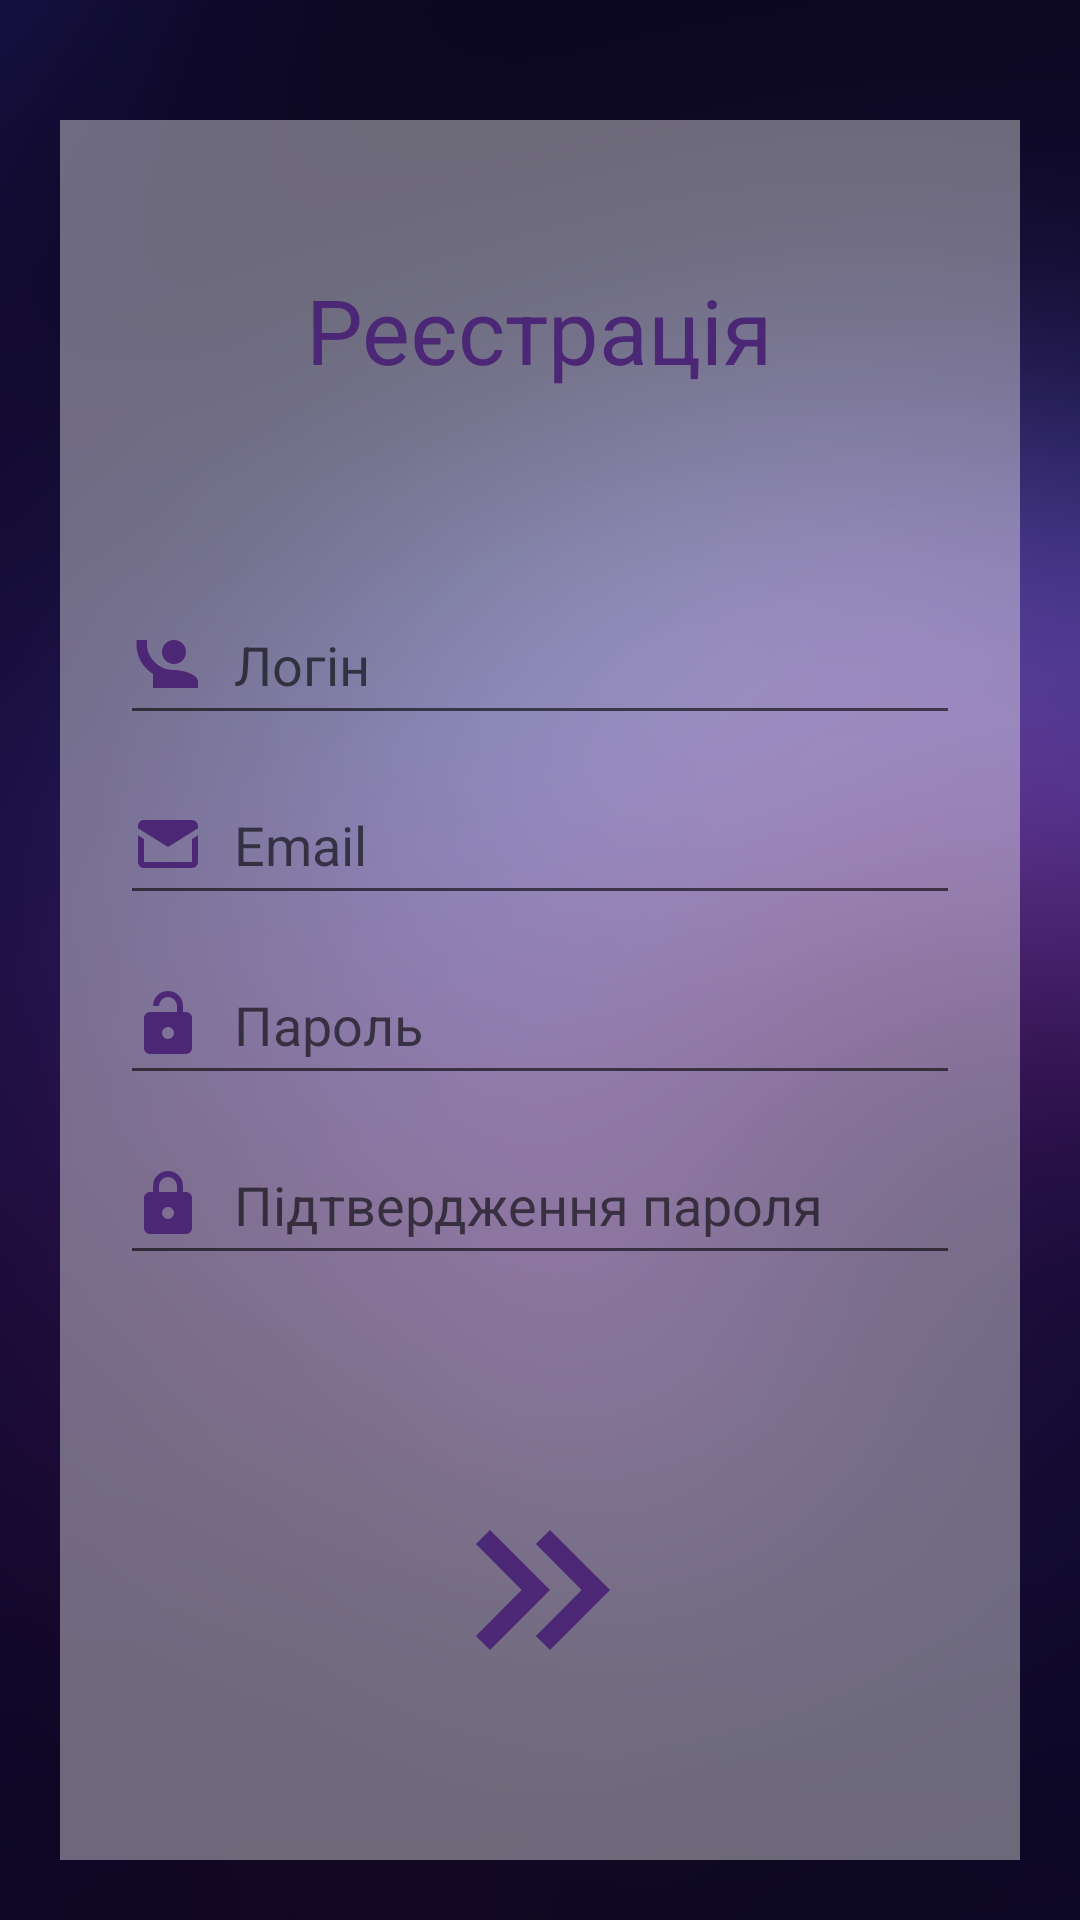

Locate icon controls on the screen. Image size 1080w x 1920h, boxes as (x1, y1, x2, y2).
reg arrows: (420, 1470, 660, 1650)
